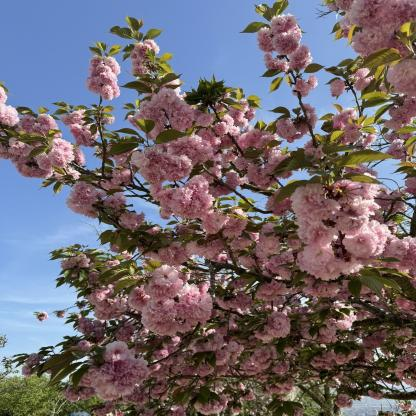YaeSakura: (0, 0, 416, 416), (226, 166, 366, 416)
